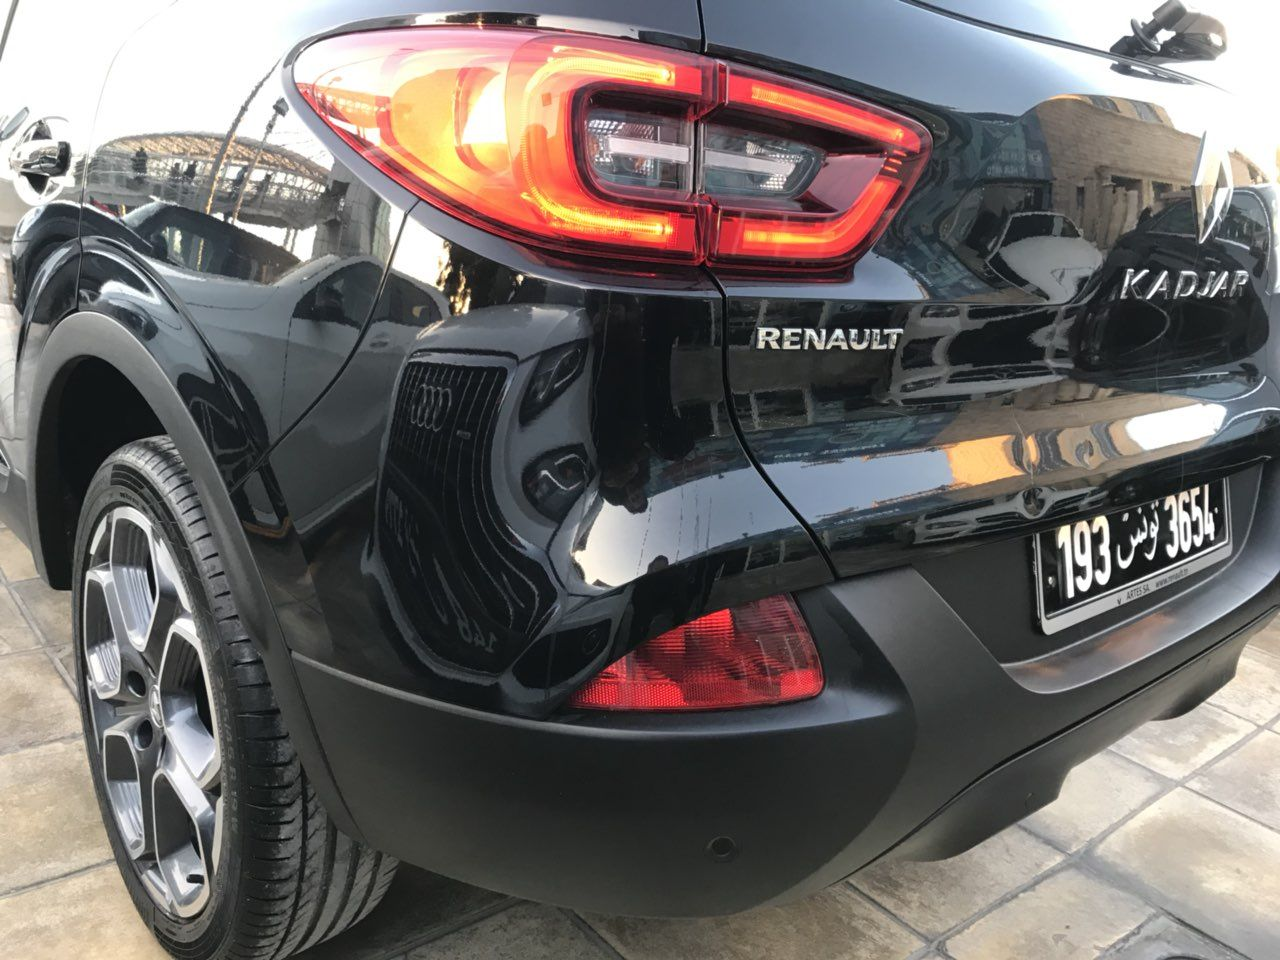LP: (1038, 474, 1228, 624)
